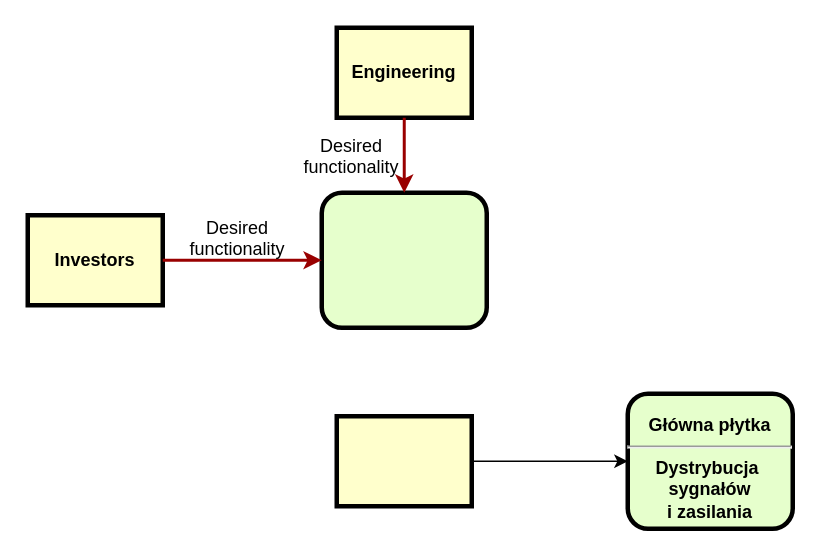
The diagram is 821 pixels wide and 557 high, and some of its shapes have lost their labels. Each missing label, with the box of its shape:
Akumulator: (334, 413, 473, 508)
Process 1 System Study Preparation: (319, 190, 488, 329)
